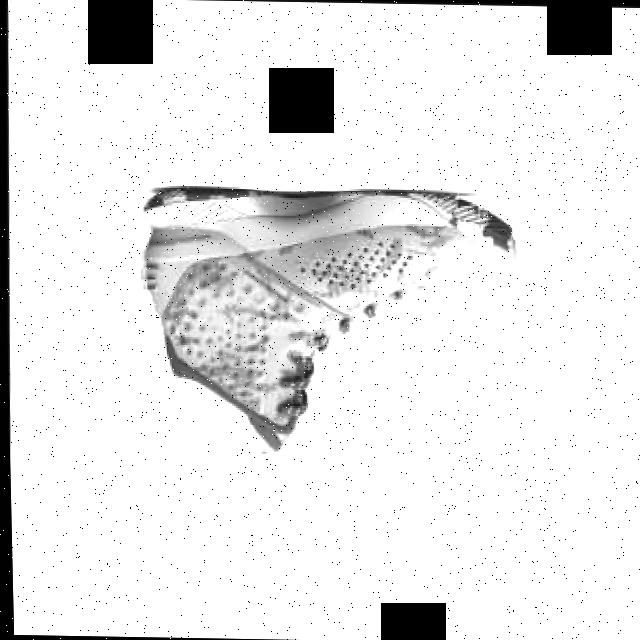shoe: (132, 188, 515, 458)
